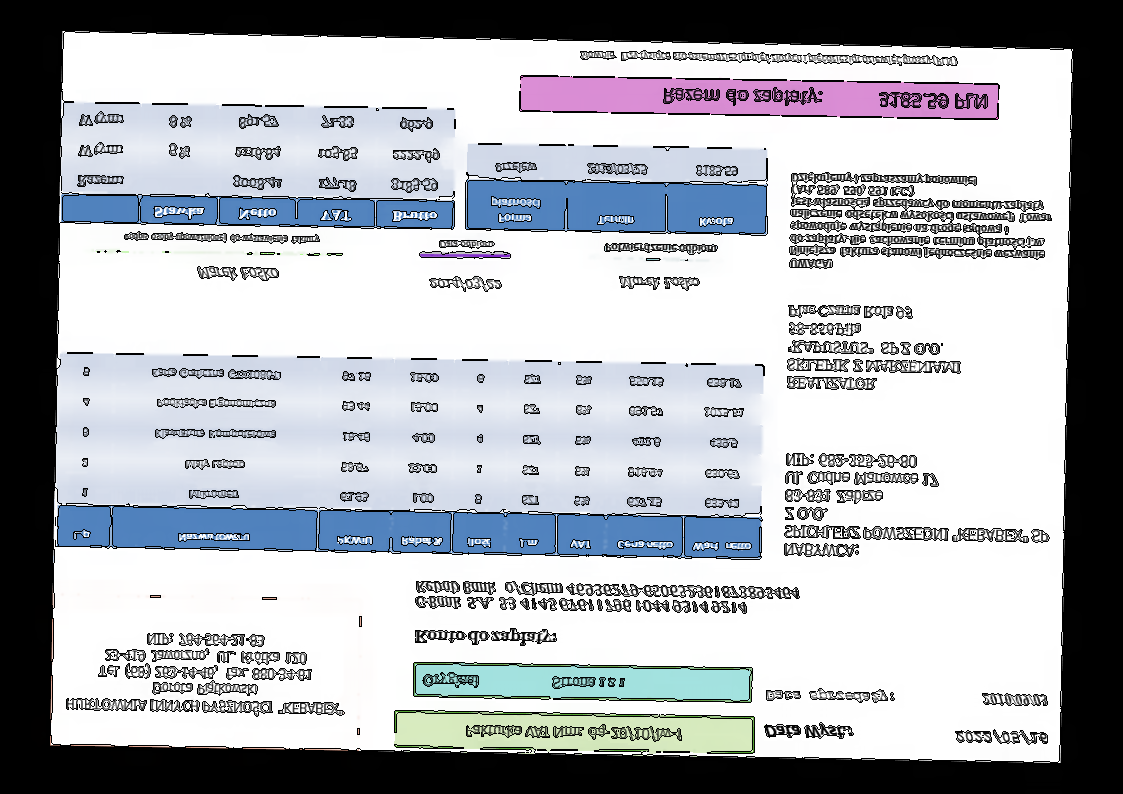Table: (55, 351, 765, 560), (60, 100, 458, 230), (464, 142, 769, 236)
TextBox: (781, 450, 1052, 562), (786, 170, 1055, 276), (64, 627, 348, 718), (784, 302, 965, 395), (412, 576, 801, 617), (661, 83, 990, 113), (578, 46, 960, 70), (462, 721, 683, 745), (421, 672, 627, 692), (120, 229, 323, 248), (411, 625, 560, 650), (763, 688, 895, 705), (951, 727, 1049, 748), (602, 240, 720, 257), (761, 723, 856, 742), (196, 265, 281, 284), (426, 273, 505, 293), (617, 273, 701, 291), (980, 692, 1047, 708), (436, 237, 495, 253)
